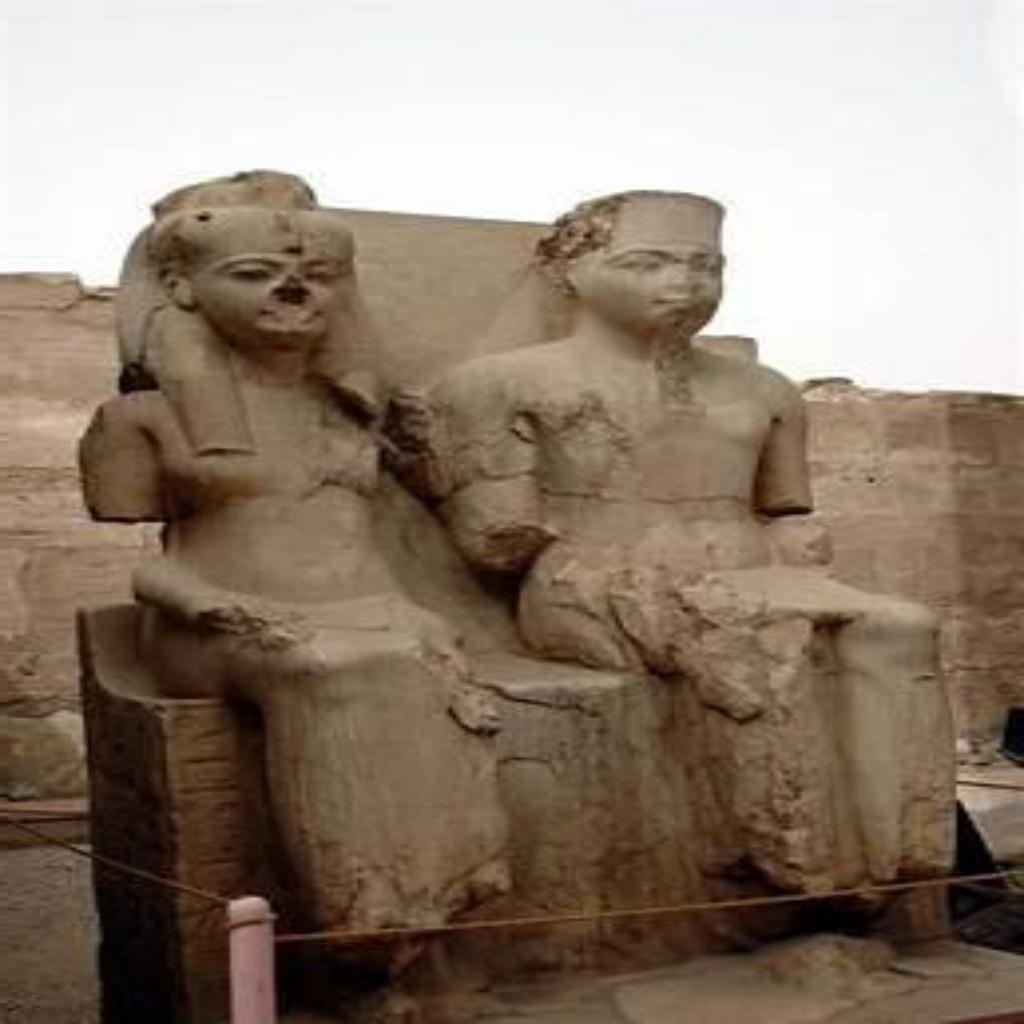Statue of Ankhesenamun: (72, 166, 498, 942)
Statue of Tutankhamun: (420, 185, 964, 899)
